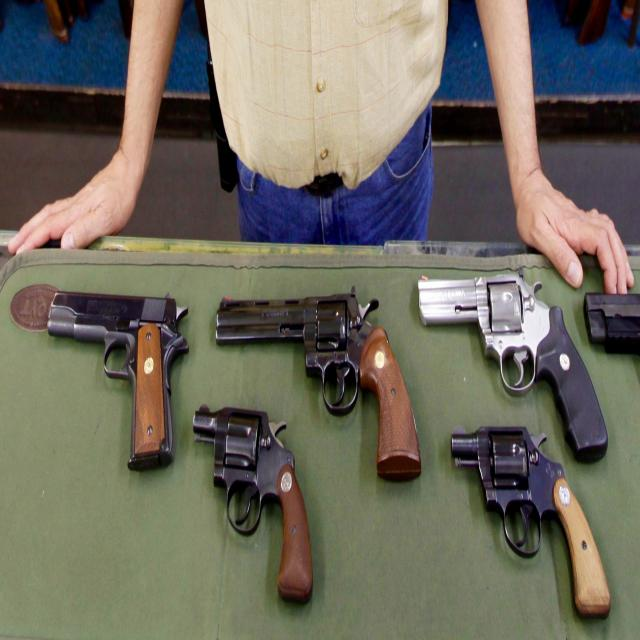HandGun: (216, 288, 422, 483), (418, 274, 608, 463), (451, 427, 611, 619), (46, 292, 189, 474), (193, 408, 314, 604)
